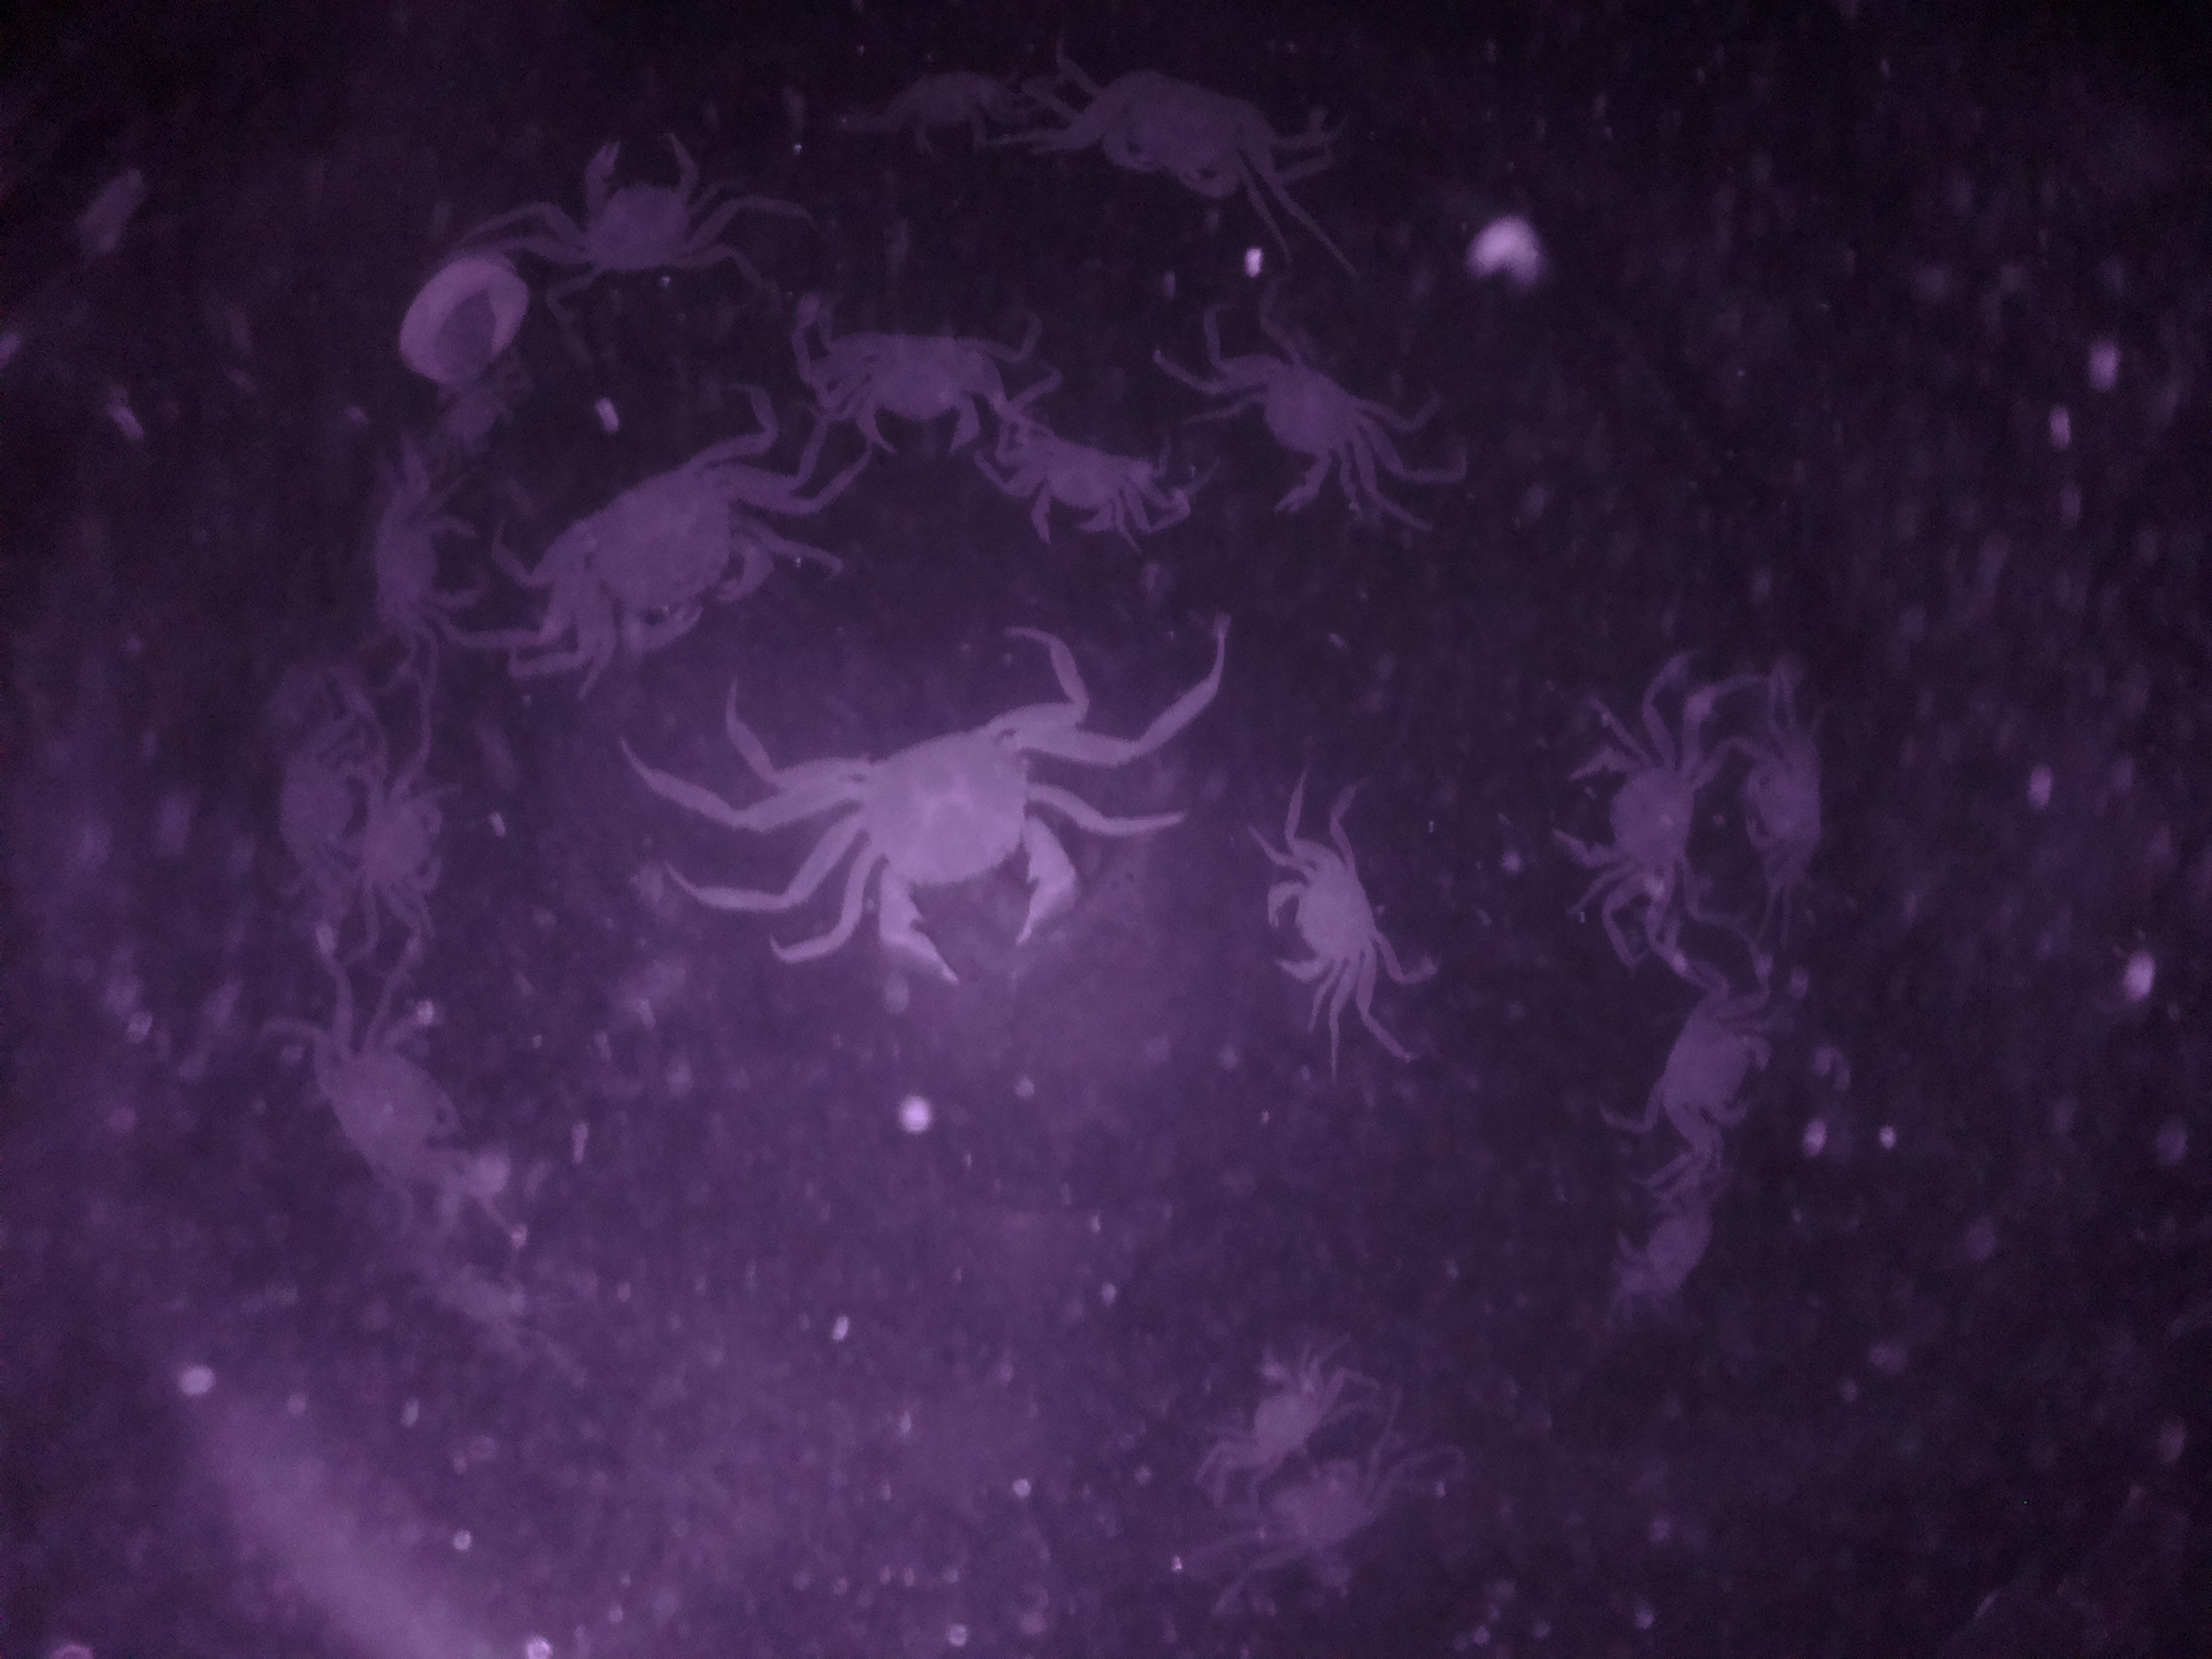Crab: (817, 702, 1089, 983), (557, 443, 786, 664), (1064, 64, 1296, 207), (1552, 727, 1716, 910), (1219, 329, 1371, 525), (806, 315, 1005, 458), (578, 120, 721, 291), (998, 427, 1179, 552), (1642, 995, 1775, 1164), (1254, 847, 1385, 1012), (350, 772, 453, 913)
